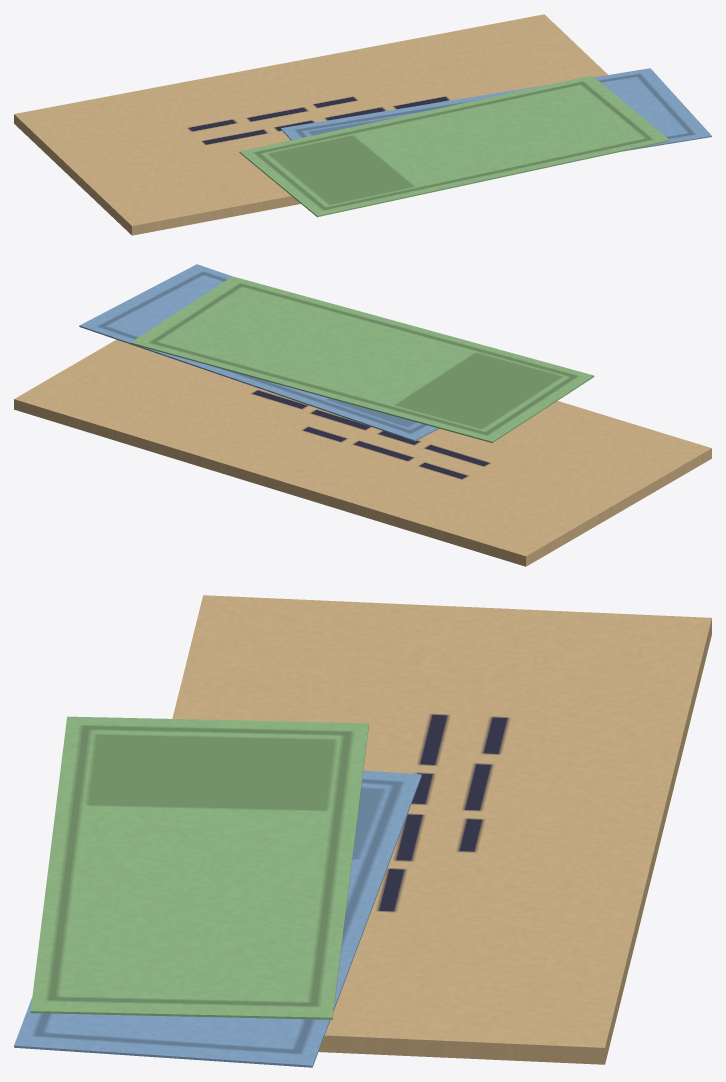
File: escena.casa.sobre_aporte.fbx
3 renders of one model, top to bottom at view 1: azimuth 30°, elevation 25°; view 2: azimuth 150°, elevation 25°; view 3: azimuth 270°, elevation 25°, orthographic. The views are drawn at different scales.
Parts seen in each view (by area): view 1: Sobre del aporte, Billete.001, Billete; view 2: Sobre del aporte, Billete.001, Billete; view 3: Sobre del aporte, Billete.001, Billete.
Part boxes in pixels (x1,y1,x2,y2): Sobre del aporte: (14, 14, 607, 235); Billete.001: (239, 75, 669, 217); Billete: (281, 68, 711, 151); Sobre del aporte: (14, 339, 711, 566); Billete.001: (130, 276, 594, 442); Billete: (79, 264, 438, 441); Sobre del aporte: (172, 595, 711, 1064); Billete.001: (30, 716, 368, 1019); Billete: (14, 770, 421, 1067).
Size of the model in its own units: 0.2404 by 0.0051 by 0.1501.
3 materials, 3 textured.
